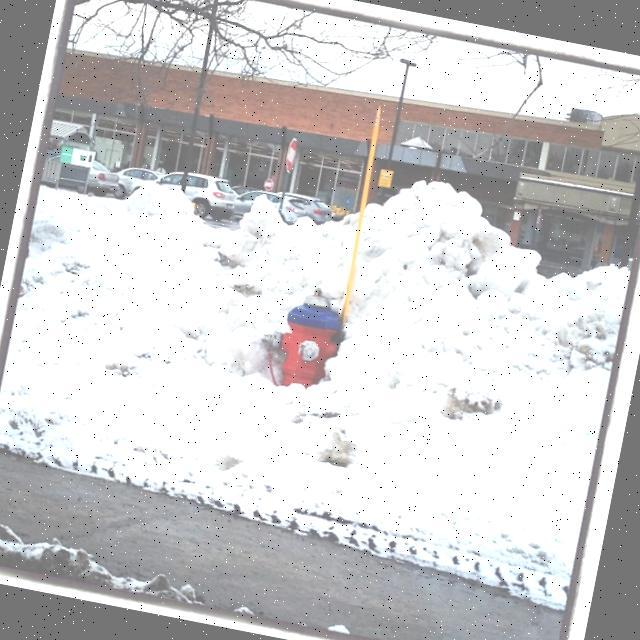fire_hydrant: (253, 279, 348, 395)
